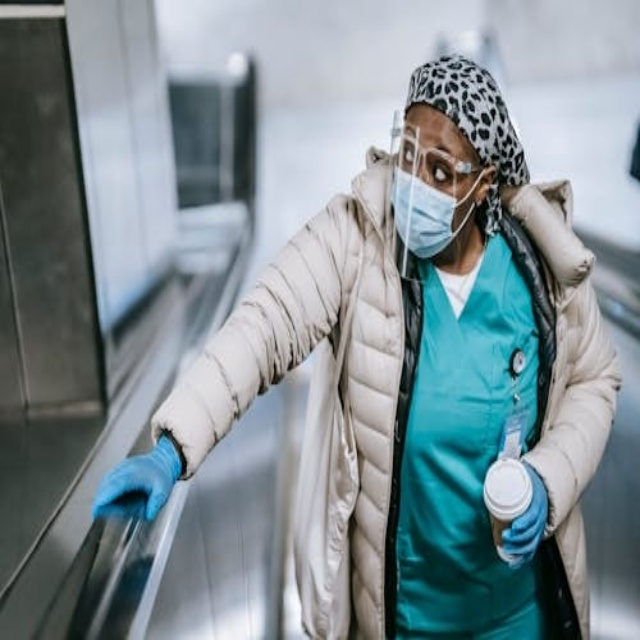Gafas: (395, 124, 485, 196)
Guantes: (91, 435, 182, 527), (498, 465, 549, 569)
Mascara: (392, 153, 481, 259)
